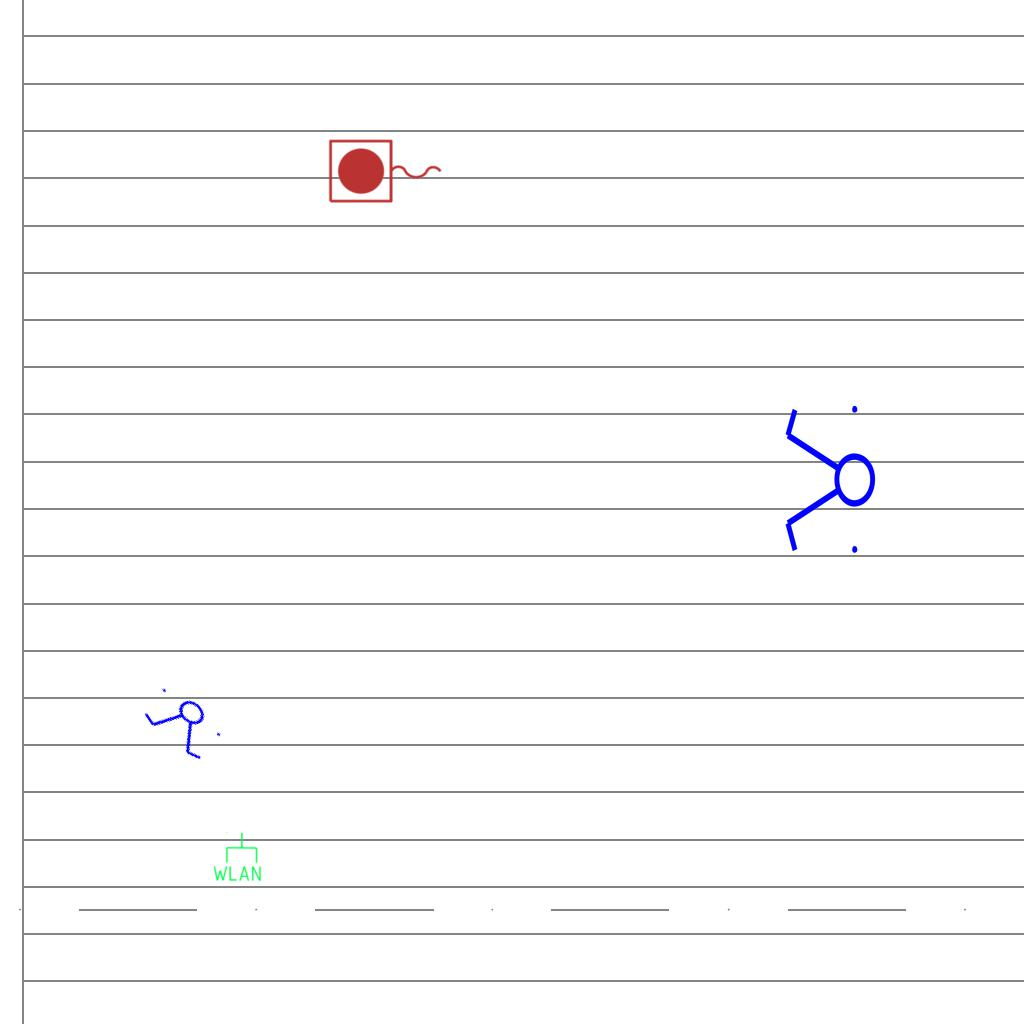Serienschalter: (781, 397, 877, 565), (136, 677, 232, 769)
WLAN: (211, 831, 263, 883)
Zugtaster: (325, 136, 447, 208)
